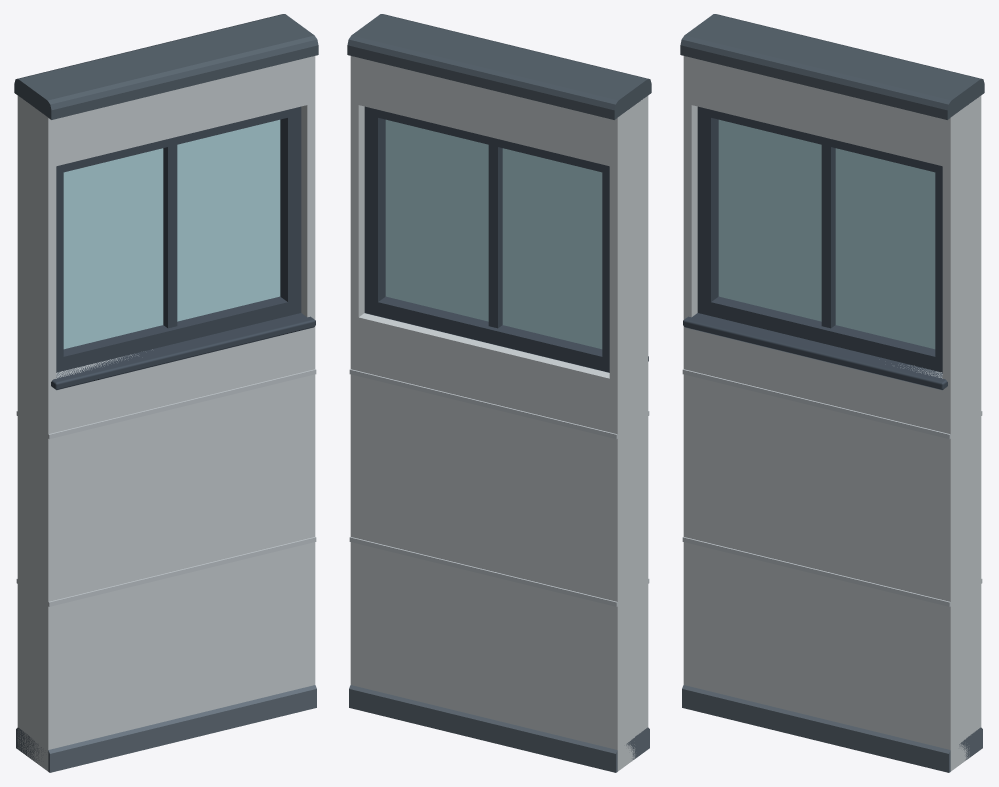
The model's file is wand_voll_fenster.glb.
3 renders of one model, left to right at view 1: azimuth 30°, elevation 25°; view 2: azimuth 150°, elevation 25°; view 3: azimuth 330°, elevation 25°, orthographic.
Parts seen in each view (by area): view 1: wand_voll_fenster; view 2: wand_voll_fenster; view 3: wand_voll_fenster.
Part boxes in pixels (box(x1,y1,x2,y2)): wand_voll_fenster: box(14, 14, 318, 772); wand_voll_fenster: box(347, 14, 651, 772); wand_voll_fenster: box(680, 14, 984, 772).
Size of the model in its own units: 1 by 2.4 by 0.25.
